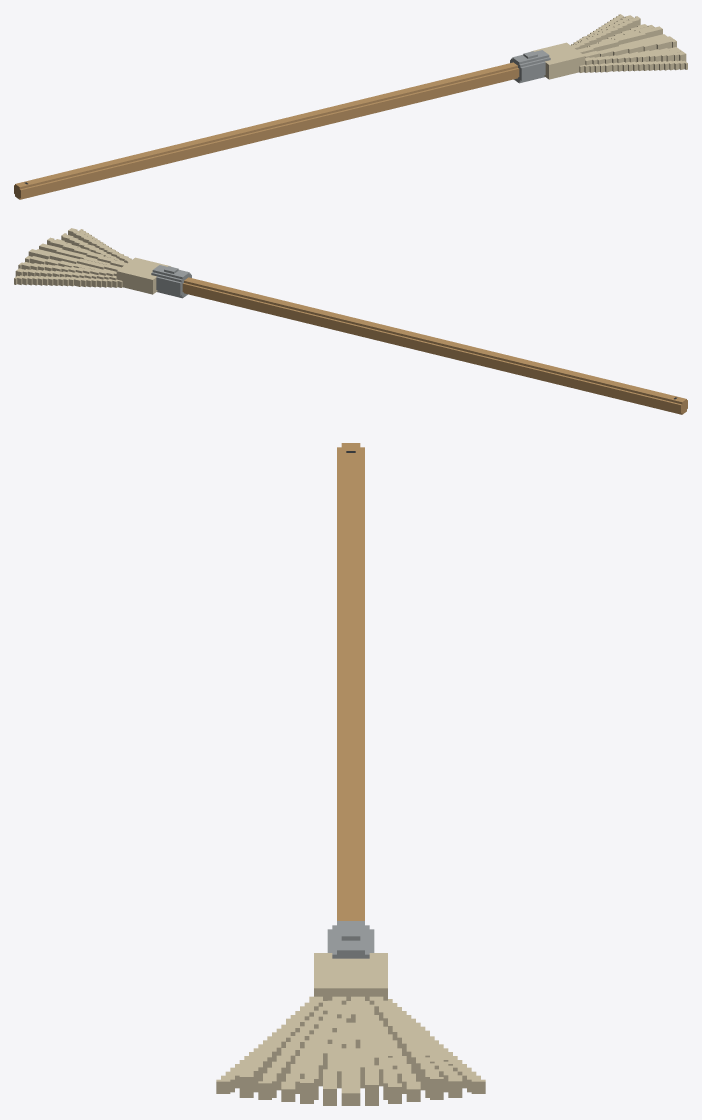
Rendered from mop.glb.
3 views of the same model, one above another, from view 1: azimuth 30°, elevation 25°; view 2: azimuth 150°, elevation 25°; view 3: azimuth 270°, elevation 25° (orthographic). The views are drawn at different scales.
Parts seen in each view (by area): view 1: mop:compound; view 2: mop:compound; view 3: mop:compound.
Boxes of the visible parts, x1=… form: mop:compound: x1=14, y1=14, x2=687, y2=199; mop:compound: x1=14, y1=228, x2=687, y2=414; mop:compound: x1=216, y1=443, x2=485, y2=1105.
Bounding box in the file's own units: 1.29 × 0.044 × 0.232.
